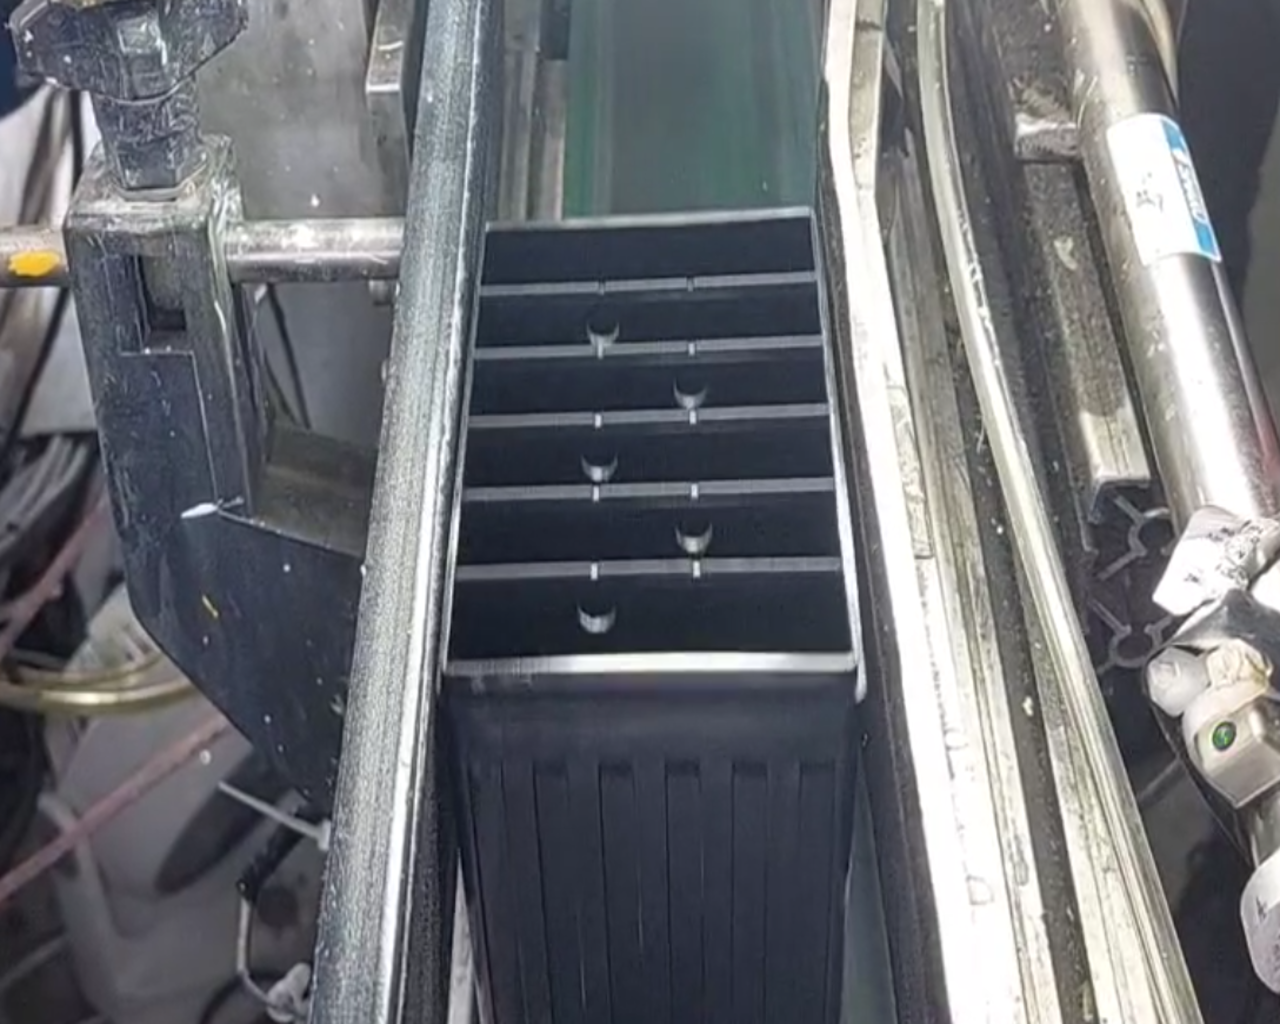box: (424, 180, 886, 717)
round: (657, 503, 725, 563), (565, 581, 631, 643), (565, 430, 630, 488), (658, 357, 720, 417), (571, 297, 630, 355)
